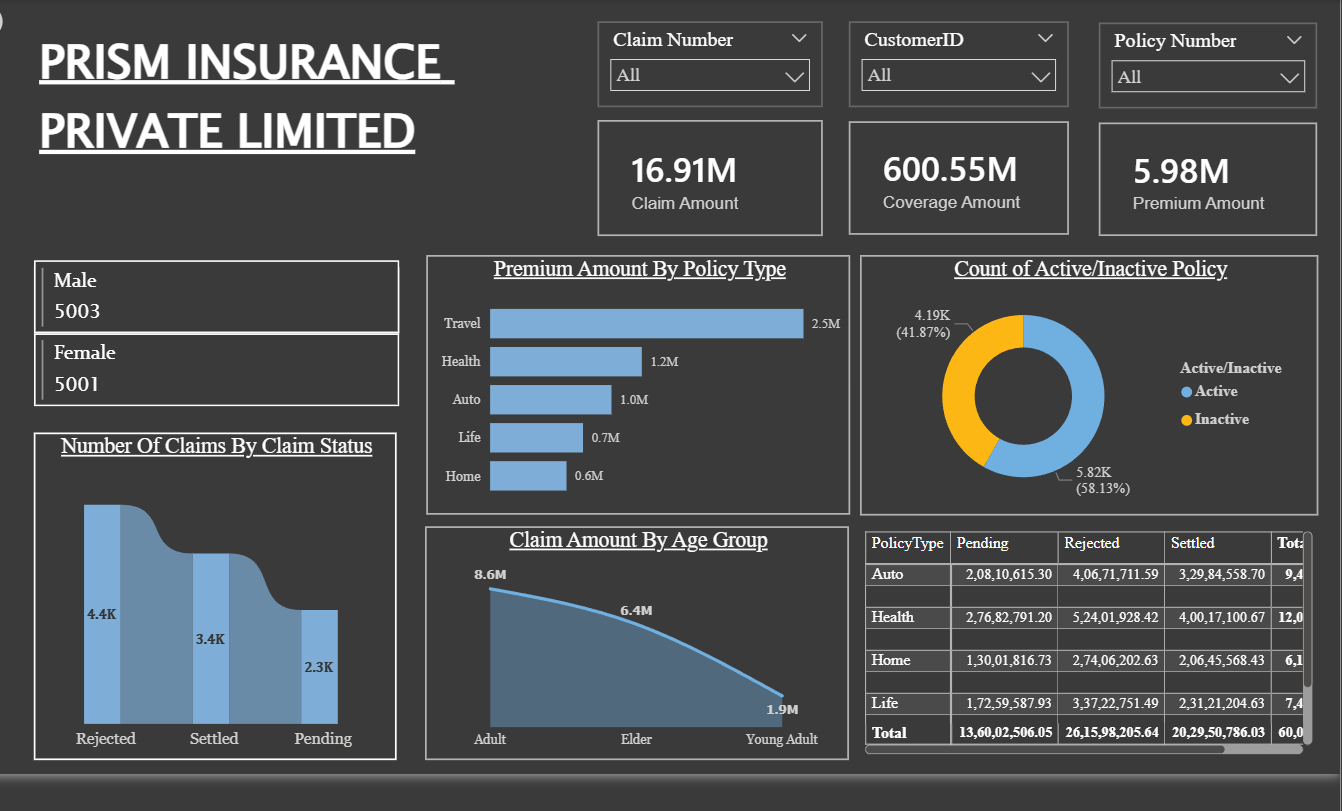

This screenshot's page, from the dashboard's own definition file:
{"tool":"powerbi","page":{"name":"Page 1","canvas":[1280,720],"ordinal":0},"visuals":[{"type":"slicer","fields":{"Values":["InsuranceData.ClaimNumber"]},"box":[588.4,19.8,209.3,80.2],"z":0},{"type":"slicer","fields":{"Values":["InsuranceData.CustomerID"]},"box":[822.1,19.8,204.7,80.2],"z":1000},{"type":"slicer","fields":{"Values":["InsuranceData.PolicyNumber"]},"box":[1054.7,20.9,203.5,80.2],"z":2000},{"type":"textbox","box":[64,20.9,424.4,198.8],"z":3000},{"type":"cardVisual","fields":{"Data":["Sum(InsuranceData.ClaimAmount)"]},"box":[588.4,111.6,209.3,108.1],"z":4000},{"type":"cardVisual","fields":{"Data":["Sum(InsuranceData.CoverageAmount)"]},"box":[822.1,112.8,204.7,105.8],"z":5000},{"type":"cardVisual","fields":{"Data":["Sum(InsuranceData.PremiumAmount)"]},"box":[1054.7,114,203.5,105.8],"z":6000},{"type":"multiRowCard","fields":{"Values":["CountNonNull(InsuranceData.Gender)","InsuranceData.Gender"]},"box":[59.3,237.2,355.8,148.8],"z":7000},{"type":"actionButton","box":[0,0,100,40],"z":8000},{"type":"ribbonChart","title":"Number Of Claims By Claim Status","fields":{"Category":["InsuranceData.ClaimStatus"],"Y":["CountNonNull(InsuranceData.ClaimStatus)"]},"box":[64,402.3,337.2,304.7],"z":9000},{"type":"barChart","title":"Premium Amount By Policy Type","fields":{"Category":["InsuranceData.PolicyType"],"Y":["Sum(InsuranceData.PremiumAmount)"]},"box":[429.1,237.2,394.2,241.9],"z":10000},{"type":"lineChart","title":"Claim Amount By Age Group","fields":{"Y":["Sum(InsuranceData.ClaimAmount)"],"Category":["InsuranceData.Age Group"]},"box":[427.9,489.5,394.2,217.4],"z":11000},{"type":"donutChart","title":"Count of Active/Inactive Policy","fields":{"Category":["InsuranceData.Active/Inactive Policy"],"Y":["CountNonNull(InsuranceData.Active/Inactive Policy)"]},"box":[832.5,237,426.1,242.1],"z":12000},{"type":"pivotTable","fields":{"Rows":["InsuranceData.PolicyType"],"Columns":["InsuranceData.ClaimStatus"],"Values":["Sum(InsuranceData.CoverageAmount)"]},"box":[832.5,489.5,426.1,217.2],"z":13000}]}

Visuals, with their boxes in screenshot pixels (x1, y1, x2, y2):
slicer - InsuranceData.ClaimNumber: region(596, 42, 820, 128)
slicer - InsuranceData.CustomerID: region(846, 42, 1066, 128)
slicer - InsuranceData.PolicyNumber: region(1096, 43, 1314, 129)
textbox: region(34, 43, 489, 256)
cardVisual - Sum(InsuranceData.ClaimAmount): region(596, 141, 820, 256)
cardVisual - Sum(InsuranceData.CoverageAmount): region(846, 142, 1066, 255)
cardVisual - Sum(InsuranceData.PremiumAmount): region(1096, 143, 1314, 257)
multiRowCard - CountNonNull(InsuranceData.Gender) x InsuranceData.Gender: region(29, 275, 410, 435)
actionButton: region(0, 21, 72, 64)
"Number Of Claims By Claim Status" ribbonChart: region(34, 452, 395, 779)
"Premium Amount By Policy Type" barChart: region(425, 275, 848, 535)
"Claim Amount By Age Group" lineChart: region(424, 546, 846, 779)
"Count of Active/Inactive Policy" donutChart: region(857, 275, 1314, 535)
pivotTable - InsuranceData.PolicyType x InsuranceData.ClaimStatus: region(857, 546, 1314, 779)
